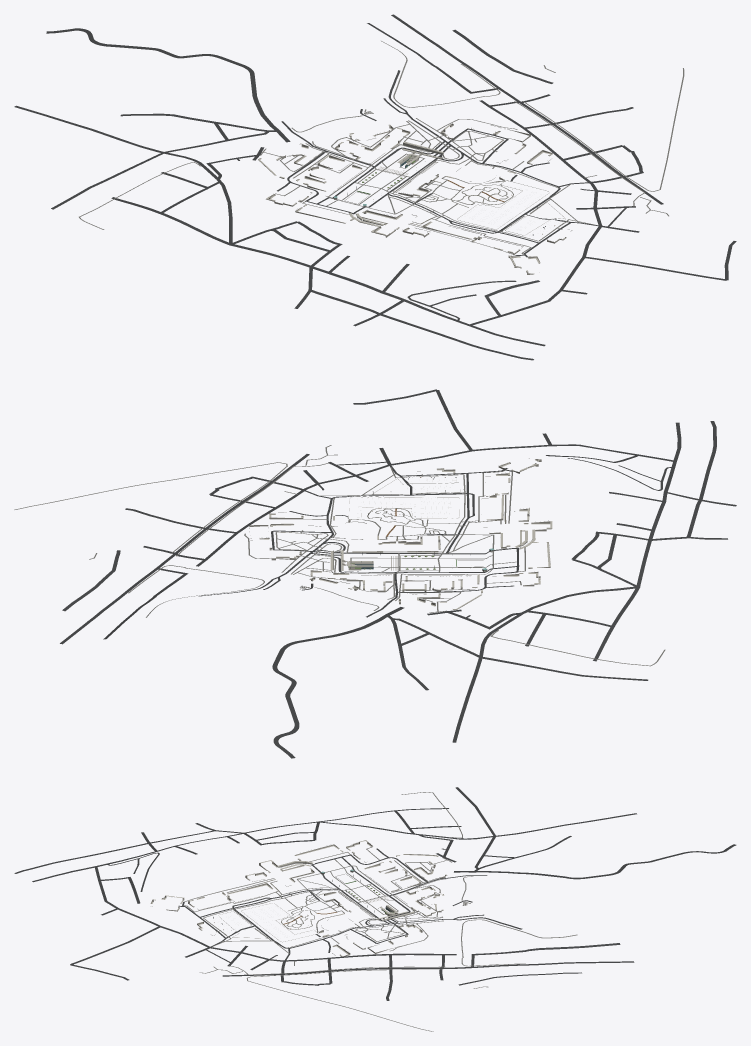
3 views of the same model, one above another, from view 1: azimuth 30°, elevation 25°; view 2: azimuth 150°, elevation 25°; view 3: azimuth 270°, elevation 25° (orthographic). The views are drawn at different scales.
Visible parts, largest first — view 1: ribbon-road, ribbon-walk, object 2, object 1; view 2: ribbon-road, ribbon-walk, object 2, object 1; view 3: ribbon-road, ribbon-walk, object 2, object 1.
Part boxes in pixels (<box>): ribbon-road: <box>14,14,736,360</box>; ribbon-walk: <box>79,41,684,255</box>; object 2: <box>258,123,566,274</box>; object 1: <box>258,124,565,272</box>; ribbon-road: <box>60,389,736,758</box>; ribbon-walk: <box>14,445,665,666</box>; object 2: <box>260,459,551,609</box>; object 1: <box>260,459,552,609</box>; ribbon-road: <box>14,787,736,1000</box>; ribbon-walk: <box>183,792,577,1031</box>; object 2: <box>151,842,447,956</box>; object 1: <box>151,840,446,956</box>.
Size of the model in its own units: 995 by 37.64 by 1239.
Materials: 24 (2 with a texture image).
